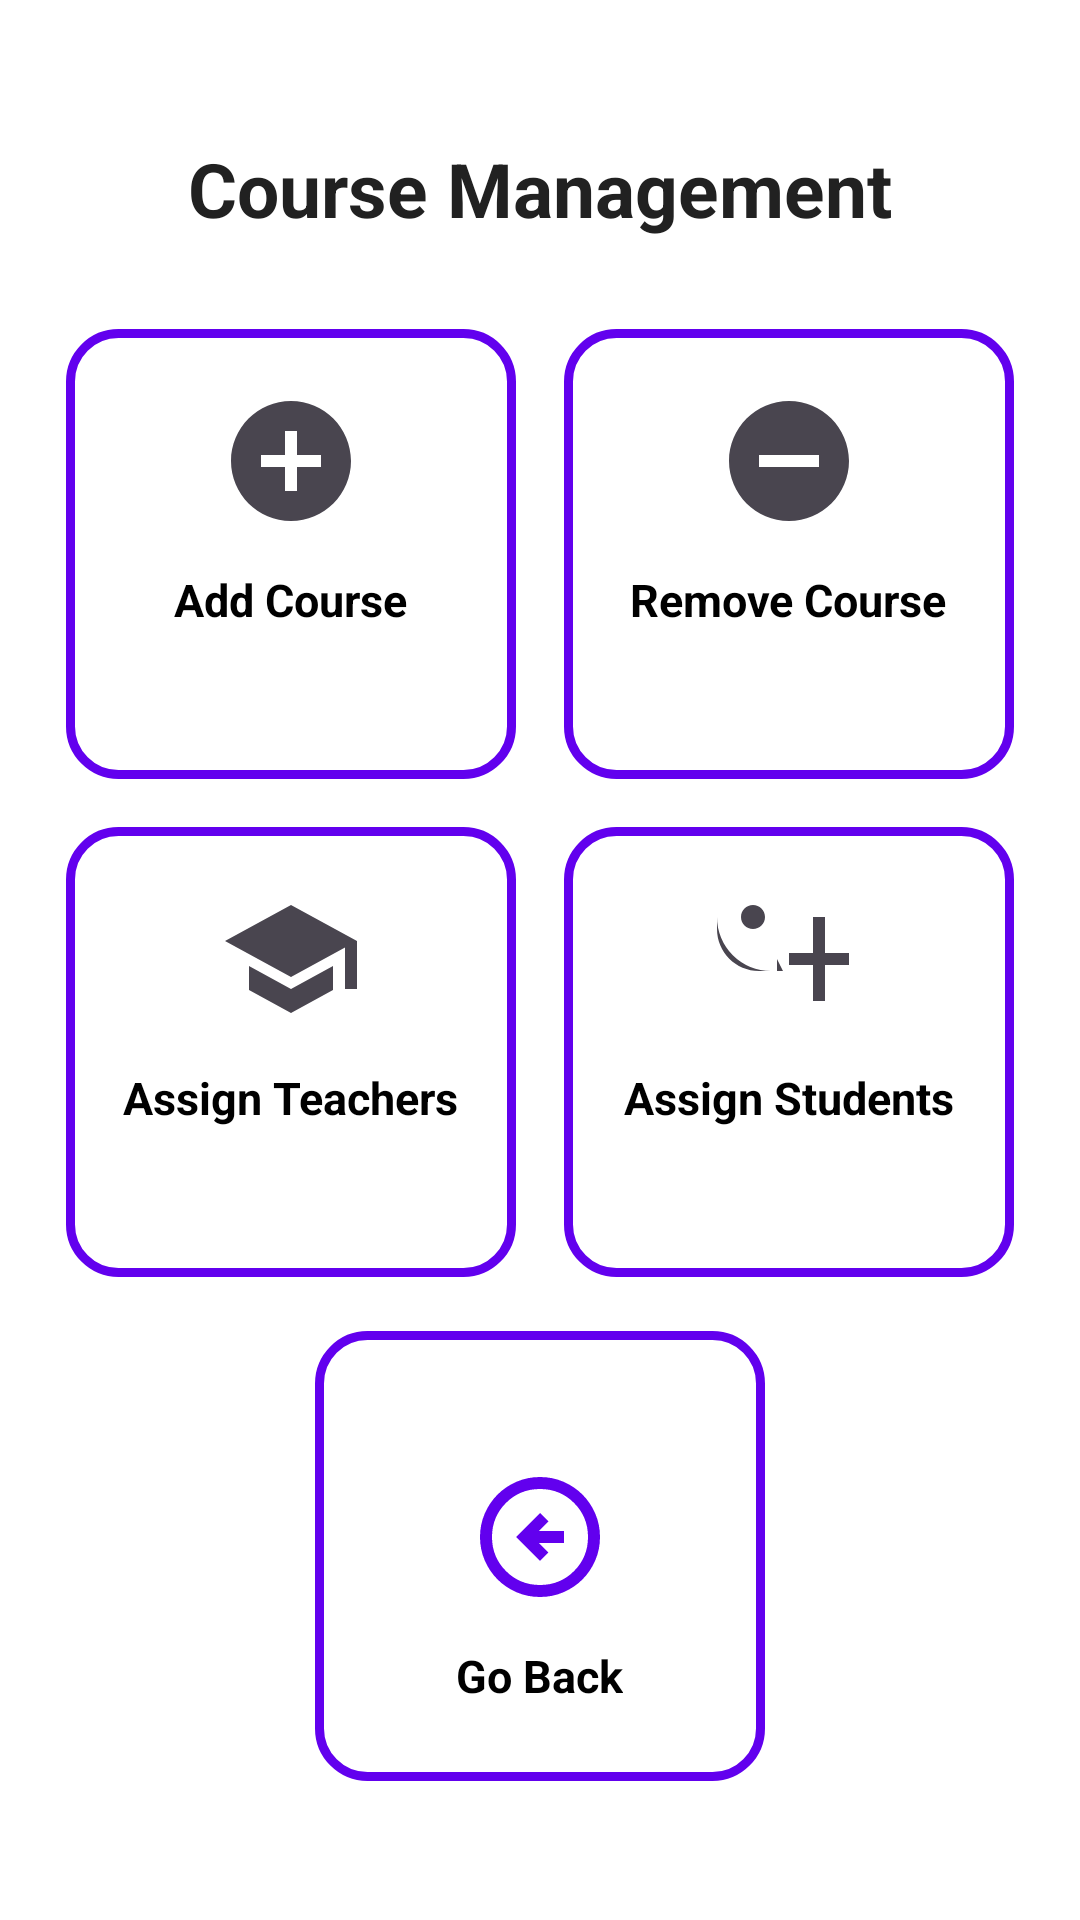

Named icons in this screenshot (1080px×1920px) and their bounding boxes, rect(x1, y1, x2, y2):
add circle: rect(231, 401, 351, 521)
arrow circle left: rect(480, 1477, 600, 1597)
remove circle: rect(729, 401, 849, 521)
school: rect(225, 905, 357, 1013)
